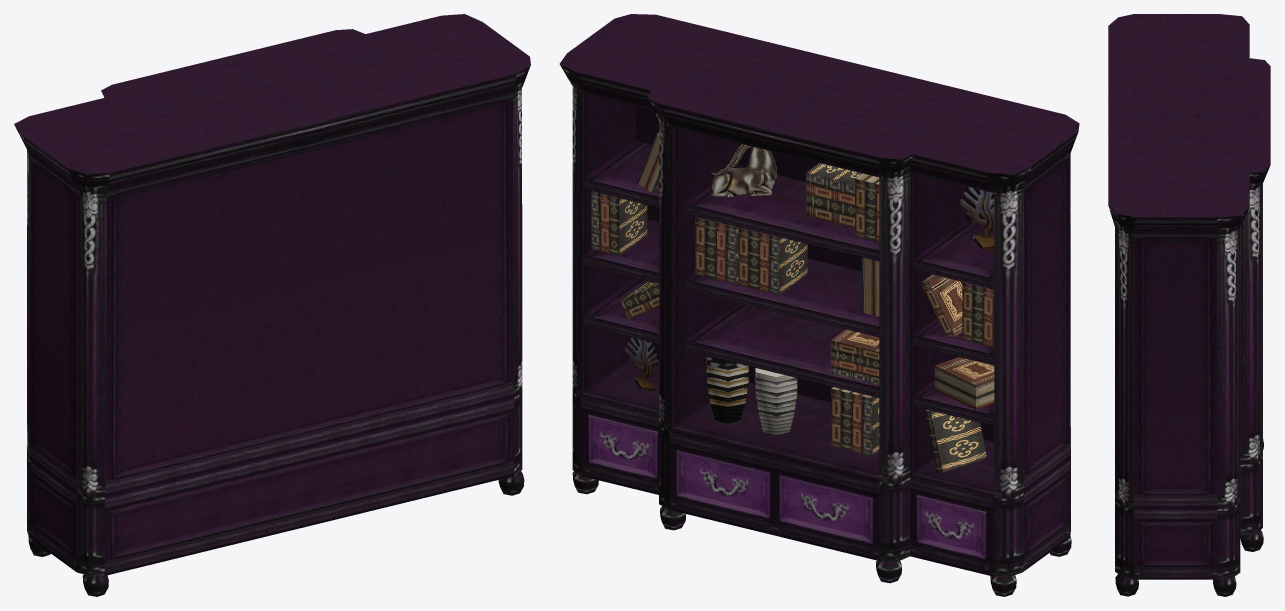
File: furni_0201219_02.FBX
The picture shows the model from 3 angles, left to right: view 1: azimuth 30°, elevation 25°; view 2: azimuth 150°, elevation 25°; view 3: azimuth 270°, elevation 25°; orthographic projection. The views are drawn at different scales.
Visible parts, largest first — view 1: furni_0201219_02; view 2: furni_0201219_02; view 3: furni_0201219_02.
Boxes of the visible parts, x1,y1,x2,y2 form: furni_0201219_02: [14, 14, 530, 596]; furni_0201219_02: [559, 14, 1079, 596]; furni_0201219_02: [1108, 14, 1270, 596].
Size of the model in its own units: 249 by 220 by 84.03.
